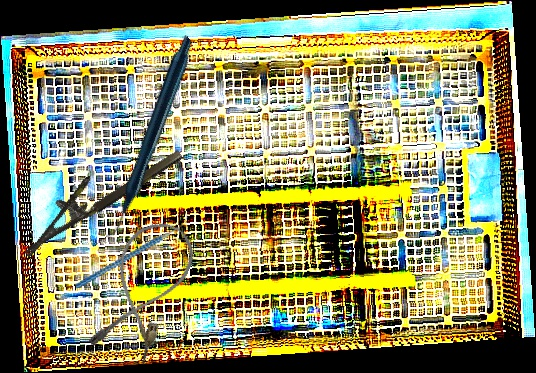Cannula: (83, 211, 203, 369)
Chopper: (66, 213, 199, 289)
Handpiece: (37, 33, 257, 240)
Needle Holder: (8, 128, 185, 258)
